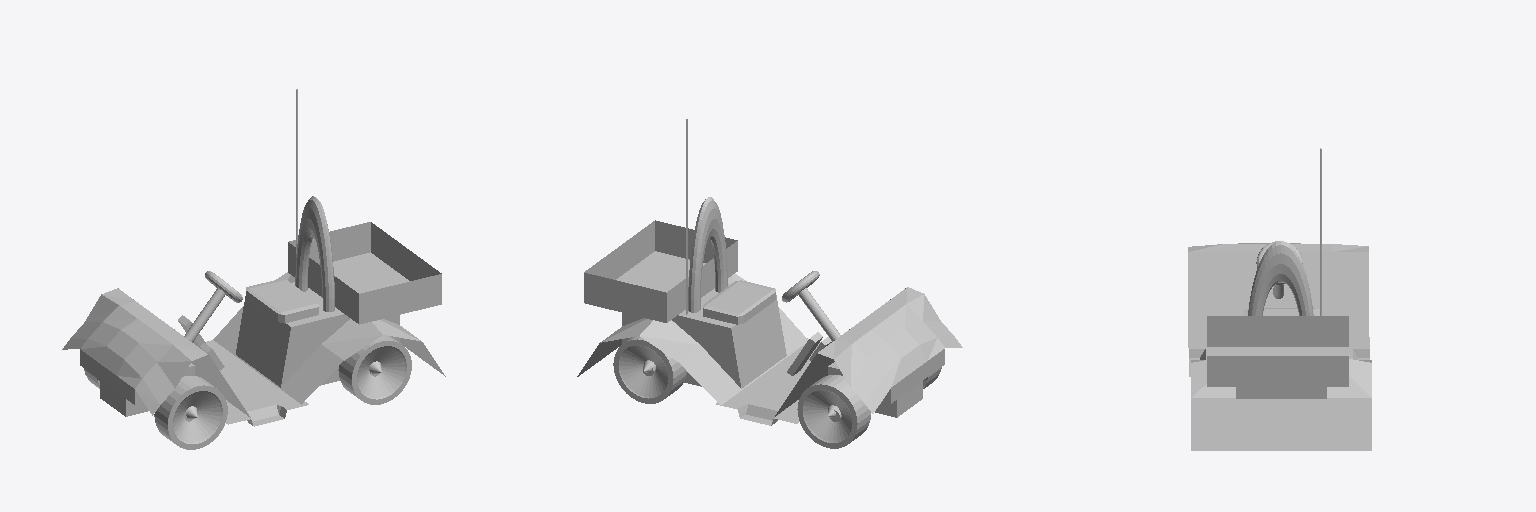
File: aaronscientiae.cart2.obj
3 renders of one model, left to right at view 1: azimuth 30°, elevation 25°; view 2: azimuth 150°, elevation 25°; view 3: azimuth 270°, elevation 25°, orthographic.
Visible parts, largest first — view 1: Plane_Plane.001, Plane.003_Plane.007, Cube.004, Circle, Circle.003, Plane.001_Plane.002, Torus, Cube_Cube.001, Plane.002_Plane, Cube.003, Cylinder.001_Cylinder.002; view 2: Plane_Plane.001, Plane.003_Plane.007, Cube.004, Circle.001, Circle.002, Plane.001_Plane.002, Torus, Cube_Cube.001, Cube.003, Plane.002_Plane, Cylinder.001_Cylinder.002; view 3: Plane_Plane.001, Cube.004, Plane.002_Plane, Torus, Plane.003_Plane.007.
Boxes of the visible parts, box(x1,y1,x2,y2) form: Plane_Plane.001: box(213, 272, 445, 404); Plane.003_Plane.007: box(62, 288, 207, 415); Cube.004: box(288, 222, 441, 324); Circle: box(154, 376, 227, 449); Circle.003: box(338, 335, 411, 404); Plane.001_Plane.002: box(206, 340, 308, 426); Torus: box(295, 196, 334, 311); Cube_Cube.001: box(246, 279, 318, 323); Plane.002_Plane: box(118, 288, 250, 417); Cube.003: box(100, 363, 194, 416); Cylinder.001_Cylinder.002: box(184, 288, 225, 342); Plane_Plane.001: box(577, 274, 807, 404); Plane.003_Plane.007: box(818, 287, 962, 413); Cube.004: box(584, 220, 737, 322); Circle.001: box(797, 375, 870, 448); Circle.002: box(613, 336, 686, 403); Plane.001_Plane.002: box(716, 338, 820, 425); Torus: box(688, 197, 727, 312); Cube_Cube.001: box(703, 280, 775, 324); Cube.003: box(828, 362, 922, 417); Plane.002_Plane: box(775, 288, 905, 416); Cylinder.001_Cylinder.002: box(798, 288, 840, 341); Plane_Plane.001: box(1191, 359, 1371, 450); Cube.004: box(1207, 316, 1348, 386); Plane.002_Plane: box(1188, 252, 1368, 347); Torus: box(1248, 241, 1313, 315); Plane.003_Plane.007: box(1188, 243, 1368, 251).
Size of the model in its own units: 13.48 by 11.81 by 7.21.